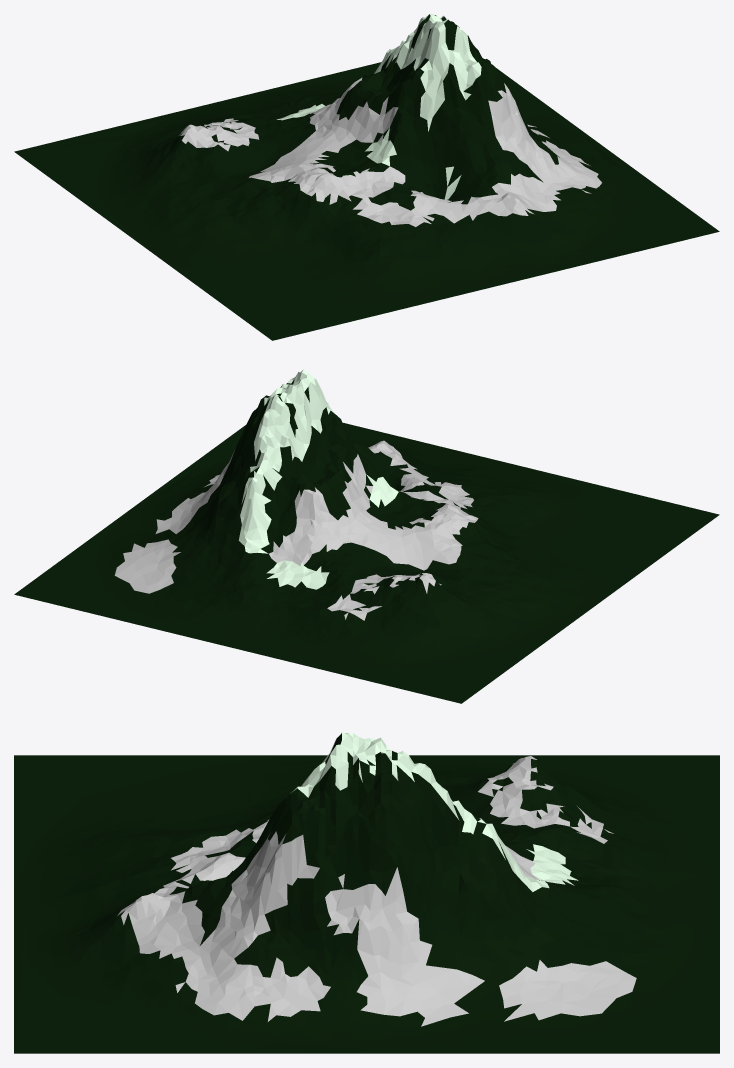
File: Mountain3.FBX
3 views of the same model, one above another, from view 1: azimuth 30°, elevation 25°; view 2: azimuth 150°, elevation 25°; view 3: azimuth 270°, elevation 25° (orthographic). The views are drawn at different scales.
Parts seen in each view (by area): view 1: Landscape.009; view 2: Landscape.009; view 3: Landscape.009.
Part boxes in pixels (x1=…): Landscape.009: x1=14, y1=14, x2=719, y2=340; Landscape.009: x1=14, y1=369, x2=719, y2=703; Landscape.009: x1=14, y1=732, x2=719, y2=1053.
Size of the model in its own units: 78.74 by 27.1 by 78.74.
